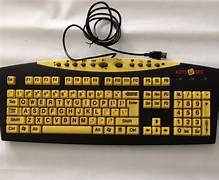keyboard: (0, 56, 218, 145)
